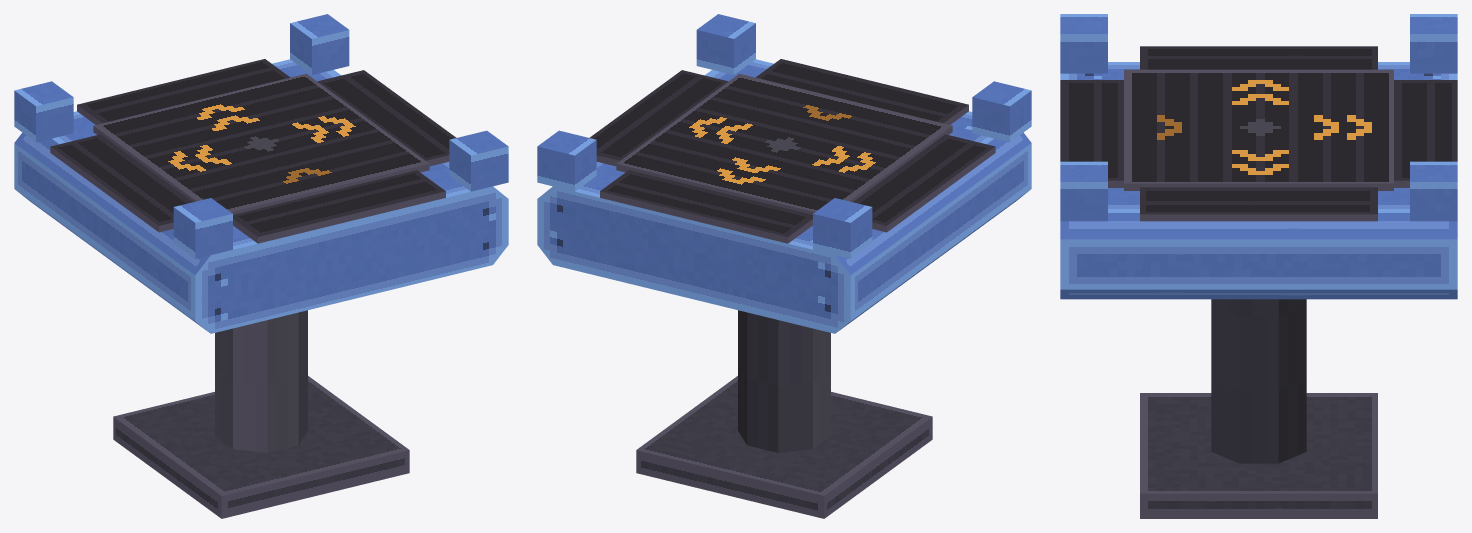
The model's file is belt_split.glb.
3 renders of one model, left to right at view 1: azimuth 30°, elevation 25°; view 2: azimuth 150°, elevation 25°; view 3: azimuth 270°, elevation 25°, orthographic. The views are drawn at different scales.
Parts seen in each view (by area): view 1: belt_split_body; view 2: belt_split_body; view 3: belt_split_body.
Part boxes in pixels (box(x1,y1,x2,y2)): belt_split_body: box(14, 14, 508, 518); belt_split_body: box(537, 14, 1031, 518); belt_split_body: box(1060, 14, 1457, 518).
Bounding box in the file's own units: 1 × 1.03 × 1.
Materials: 1 (1 with a texture image).
